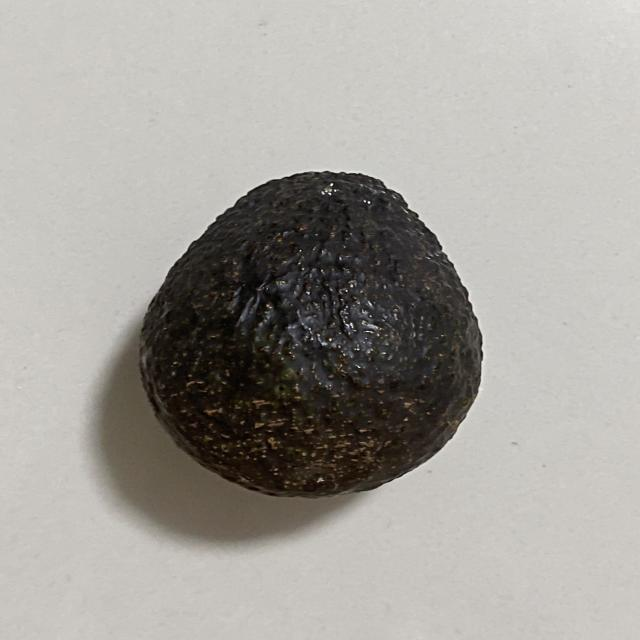Level2: (129, 167, 494, 500)
